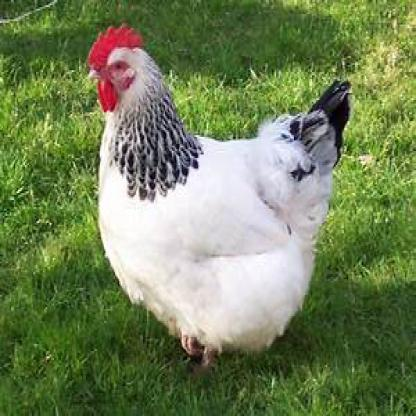chicken: (86, 23, 352, 367)
